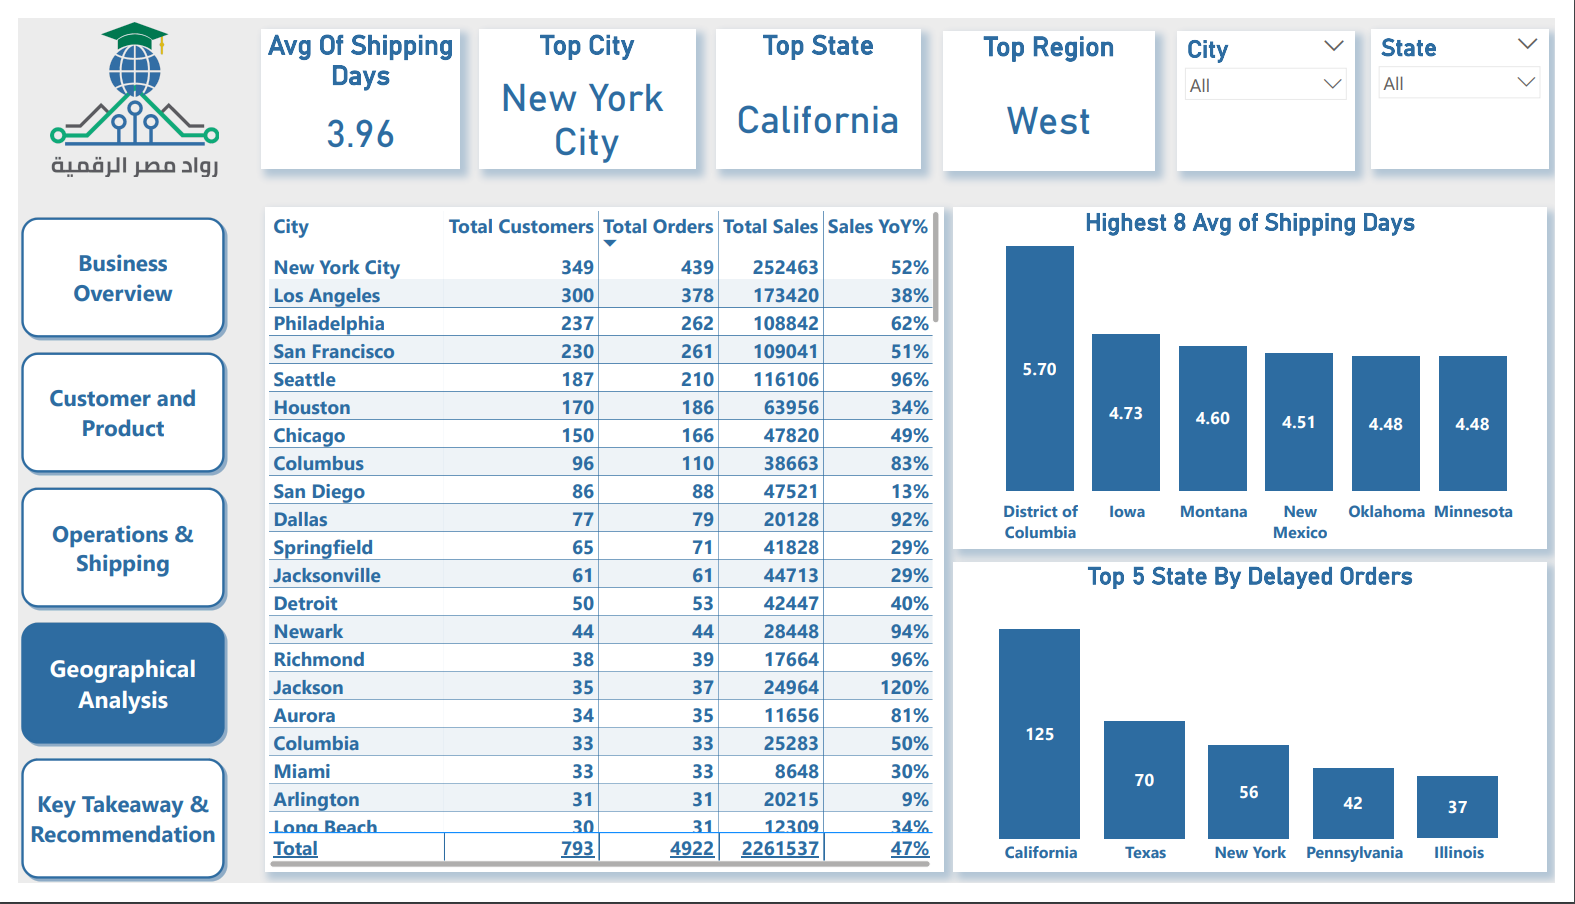

Layout of this report page (visuals, bound fields, positions):
{"tool":"powerbi","page":{"name":"Geographical Analysis","canvas":[1280,720],"ordinal":3},"visuals":[{"type":"image","box":[0,0,163.3,181.1],"z":0},{"type":"pageNavigator","box":[0,181.1,163.3,539.3],"z":1000},{"type":"card","fields":{"Values":["Avg(Superstore Sales Dataset.Shipping Duration)"]},"box":[207.2,0,231.9,102.9],"z":2000},{"type":"card","fields":{"Values":["Max(Superstore Sales Dataset.City)"]},"box":[439.1,0,369.1,115.3],"z":3000},{"type":"card","fields":{"Values":["Min(Superstore Sales Dataset.State)"]},"box":[808.2,1.4,253.9,101.5],"z":4000},{"type":"card","fields":{"Values":["Min(Superstore Sales Dataset.Region)"]},"box":[1048.4,0,231.9,102.9],"z":5000},{"type":"clusteredColumnChart","fields":{"Category":["Superstore Sales Dataset.State"],"Y":["Sum(Superstore Sales Dataset.Sales)"]},"box":[207.2,430.9,613.4,289.5],"z":6000},{"type":"actionButton","box":[0,0,100,40],"z":7000},{"type":"tableEx","fields":{"Values":["Superstore Sales Dataset.City","Superstore Sales Dataset.Total Sales","Superstore Sales Dataset.Total Orders","Superstore Sales Dataset.Total Customers","Superstore Sales Dataset.Sales YoY%"]},"box":[820.6,115.3,459.7,605.1],"z":8000},{"type":"treemap","fields":{"Values":["Superstore Sales Dataset.Total Sales"],"Group":["Superstore Sales Dataset.State Hierarchy.State","Superstore Sales Dataset.State Hierarchy.City"]},"box":[186.6,115.3,609.3,303.3],"z":9000}]}

Visuals, with their boxes in screenshot pixels (x1, y1, x2, y2), scaled from the page's 1280x720 canvas onto the 1575x904 screenshot:
image: (x1=0, y1=0, x2=201, y2=227)
pageNavigator: (x1=0, y1=227, x2=201, y2=903)
card - Avg(Superstore Sales Dataset.Shipping Duration): (x1=255, y1=0, x2=540, y2=129)
card - Max(Superstore Sales Dataset.City): (x1=540, y1=0, x2=994, y2=145)
card - Min(Superstore Sales Dataset.State): (x1=994, y1=2, x2=1307, y2=129)
card - Min(Superstore Sales Dataset.Region): (x1=1290, y1=0, x2=1574, y2=129)
clusteredColumnChart - Superstore Sales Dataset.State x Sum(Superstore Sales Dataset.Sales): (x1=255, y1=541, x2=1010, y2=903)
actionButton: (x1=0, y1=0, x2=123, y2=50)
tableEx - Superstore Sales Dataset.City x Superstore Sales Dataset.Total Sales: (x1=1010, y1=145, x2=1574, y2=903)
treemap - Superstore Sales Dataset.Total Sales x Superstore Sales Dataset.State Hierarchy.State: (x1=230, y1=145, x2=979, y2=526)
